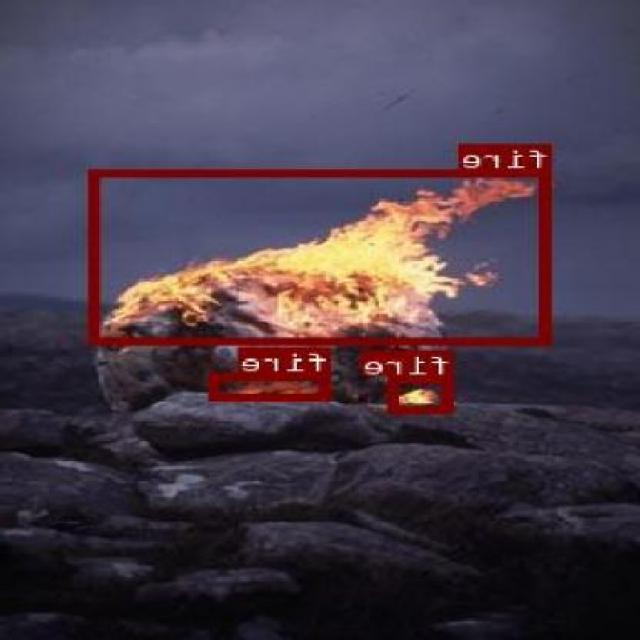Fire: (92, 168, 554, 344), (210, 372, 332, 399), (390, 375, 456, 413)
